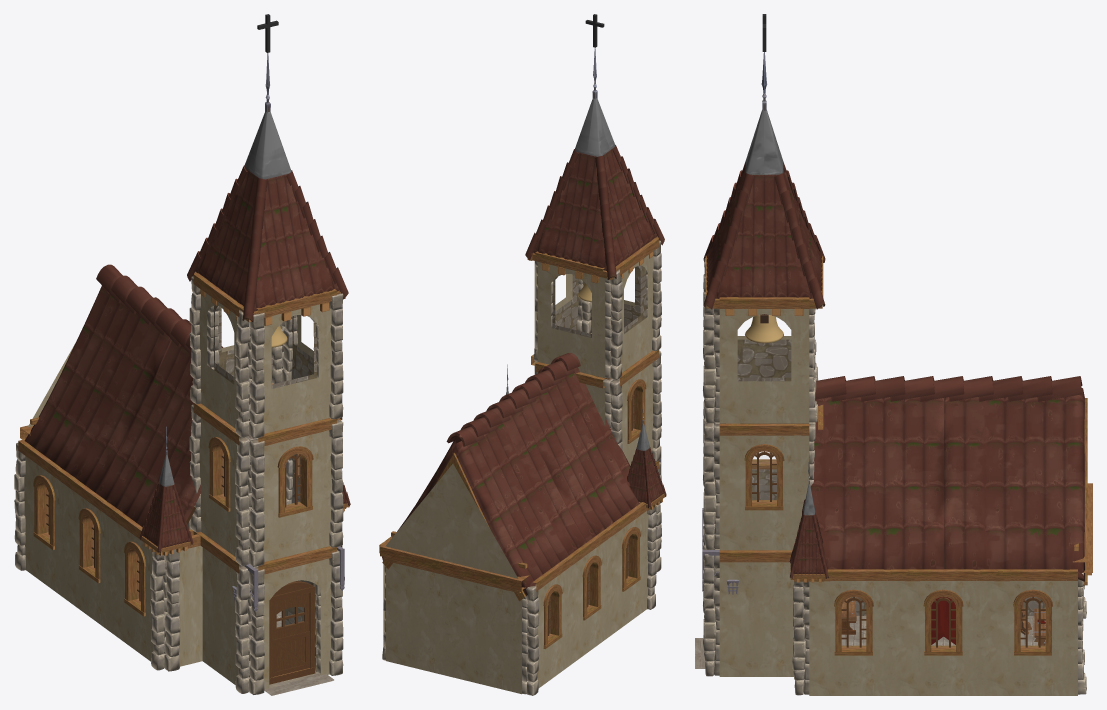
File: Church.glb
The picture shows the model from 3 angles, left to right: view 1: azimuth 30°, elevation 25°; view 2: azimuth 150°, elevation 25°; view 3: azimuth 270°, elevation 25°; orthographic projection. The views are drawn at different scales.
Visible parts, largest first — view 1: Roof_RoundTiles_4x6.001, Roof_Tower_RoundTiles.005, Wall_UnevenBrick_Window_Thin_Round.035, Wall_UnevenBrick_Window_Wide_Round.005, Wall_UnevenBrick_Window_Thin_Round.030, Wall_UnevenBrick_Straight.039, Wall_UnevenBrick_Window_Thin_Round.031, Door_1_Round.003, Wall_UnevenBrick_Door_Round.002, Corner_Exterior_Brick.051, Wall_UnevenBrick_Window_Thin_Round.029, Wall_UnevenBrick_Window_Thin_Round.037 (+21 smaller); view 2: Roof_RoundTiles_4x6.001, Roof_Tower_RoundTiles.005, Roof_Front_Brick4.003, Wall_UnevenBrick_Straight.008, Wall_UnevenBrick_Straight.019, Wall_UnevenBrick_Window_Wide_Round.018, Wall_UnevenBrick_Window_Thin_Round.030, Wall_UnevenBrick_Window_Thin_Round.029, Wall_UnevenBrick_Window_Thin_Round.031, Wall_UnevenBrick_Window_Wide_Round.022, Wall_UnevenBrick_Window_Thin_Round.037, Roof_Tower_RoundTiles.002 (+14 smaller); view 3: Roof_RoundTiles_4x6.001, Roof_Tower_RoundTiles.005, Wall_UnevenBrick_Straight.040, Wall_UnevenBrick_Window_Thin_Round.033, Wall_UnevenBrick_Window_Thin_Round.034, Wall_UnevenBrick_Window_Thin_Round.032, Wall_UnevenBrick_Window_Thin_Round.038, Wall_UnevenBrick_Window_Wide_Round.034, Roof_Tower_RoundTiles.004, Wall_UnevenBrick_Window_Wide_Round.022, Corner_Exterior_Brick.052, Corner_Exterior_Brick.050 (+11 smaller).
Boxes of the visible parts, box(x1,y1,x2,y2) form: Roof_RoundTiles_4x6.001: box(24, 264, 223, 527); Roof_Tower_RoundTiles.005: box(187, 53, 348, 325); Wall_UnevenBrick_Window_Thin_Round.035: box(258, 418, 336, 561); Wall_UnevenBrick_Window_Wide_Round.005: box(256, 289, 336, 433); Wall_UnevenBrick_Window_Thin_Round.030: box(63, 473, 113, 633); Wall_UnevenBrick_Straight.039: box(193, 531, 249, 684); Wall_UnevenBrick_Window_Thin_Round.031: box(18, 439, 67, 600); Door_1_Round.003: box(269, 581, 315, 684); Wall_UnevenBrick_Door_Round.002: box(258, 546, 336, 688); Corner_Exterior_Brick.051: box(235, 436, 264, 566); Wall_UnevenBrick_Window_Thin_Round.029: box(109, 506, 153, 661); Wall_UnevenBrick_Window_Thin_Round.037: box(193, 403, 250, 556); Roof_RoundTiles_4x6.001: box(382, 353, 639, 601); Roof_Tower_RoundTiles.005: box(525, 48, 664, 283); Roof_Front_Brick4.003: box(380, 464, 530, 590); Wall_UnevenBrick_Straight.008: box(451, 573, 521, 694); Wall_UnevenBrick_Straight.019: box(384, 557, 453, 677); Wall_UnevenBrick_Window_Wide_Round.018: box(535, 251, 605, 377); Wall_UnevenBrick_Window_Thin_Round.030: box(571, 525, 614, 663); Wall_UnevenBrick_Window_Thin_Round.029: box(611, 502, 648, 635); Wall_UnevenBrick_Window_Thin_Round.031: box(533, 553, 575, 687); Wall_UnevenBrick_Window_Wide_Round.022: box(616, 238, 659, 372); Wall_UnevenBrick_Window_Thin_Round.037: box(609, 350, 659, 465); Roof_Tower_RoundTiles.002: box(627, 399, 666, 510); Roof_RoundTiles_4x6.001: box(802, 376, 1087, 585); Roof_Tower_RoundTiles.005: box(703, 52, 825, 315); Wall_UnevenBrick_Straight.040: box(719, 550, 804, 676); Wall_UnevenBrick_Window_Thin_Round.033: box(898, 569, 988, 695); Wall_UnevenBrick_Window_Thin_Round.034: box(988, 569, 1077, 695); Wall_UnevenBrick_Window_Thin_Round.032: box(809, 569, 898, 695); Wall_UnevenBrick_Window_Thin_Round.038: box(719, 423, 809, 550); Wall_UnevenBrick_Window_Wide_Round.034: box(719, 297, 809, 423); Roof_Tower_RoundTiles.004: box(789, 452, 828, 582); Wall_UnevenBrick_Window_Wide_Round.022: box(737, 336, 791, 377); Corner_Exterior_Brick.052: box(703, 421, 719, 549); Corner_Exterior_Brick.050: box(703, 548, 719, 676).
Size of the model in its own units: 4.9 by 15.77 by 8.88.
Materials: 44 (37 with a texture image).
